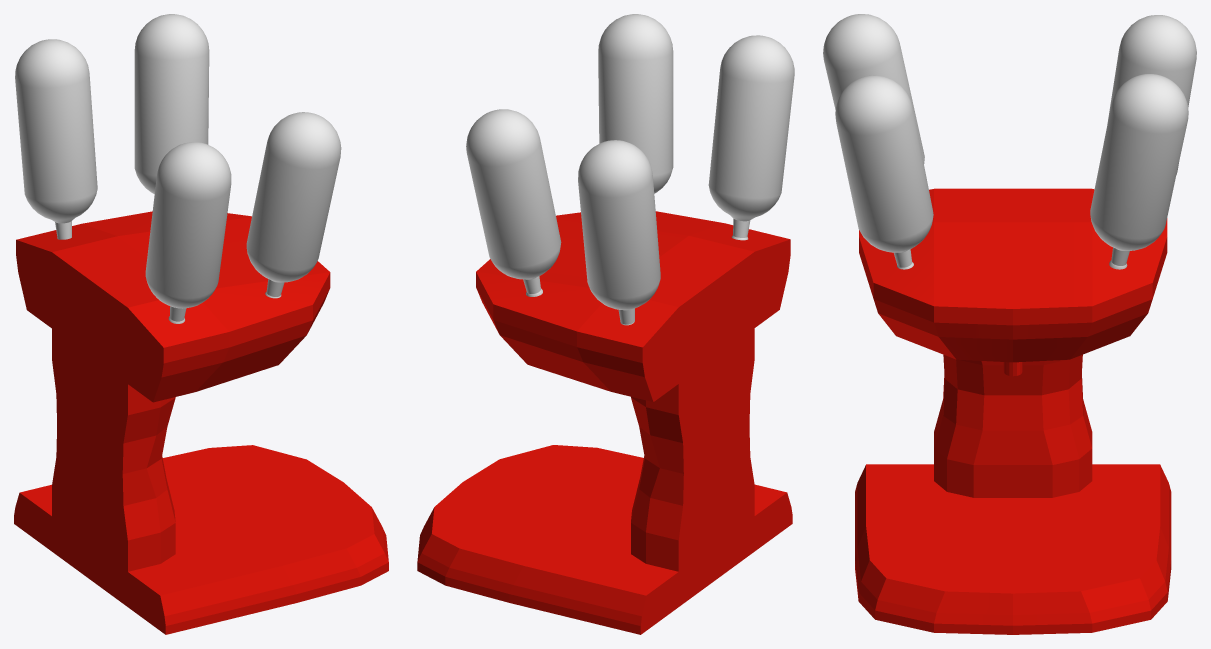
The model's file is Sintezator.fbx.
The picture shows the model from 3 angles, left to right: view 1: azimuth 30°, elevation 25°; view 2: azimuth 150°, elevation 25°; view 3: azimuth 270°, elevation 25°; orthographic projection. The views are drawn at different scales.
Parts seen in each view (by area): view 1: Куб, Сфера.003, Сфера.001, Сфера, Сфера.002; view 2: Куб, Сфера, Сфера.002, Сфера.003, Сфера.001; view 3: Куб, Сфера.002, Сфера.001, Сфера, Сфера.003.
Part boxes in pixels (x1,y1,x2,y2): Куб: (14, 211, 388, 634); Сфера.003: (15, 39, 97, 239); Сфера.001: (246, 112, 341, 298); Сфера: (145, 142, 231, 323); Сфера.002: (134, 14, 209, 193); Куб: (417, 211, 792, 634); Сфера: (708, 35, 794, 240); Сфера.002: (466, 109, 561, 296); Сфера.003: (578, 140, 660, 325); Сфера.001: (598, 14, 673, 193); Куб: (855, 188, 1171, 634); Сфера.002: (1090, 74, 1188, 269); Сфера.001: (835, 75, 933, 269); Сфера: (823, 14, 924, 163); Сфера.003: (1107, 15, 1196, 174).
Size of the model in its own units: 200 by 349 by 236.
